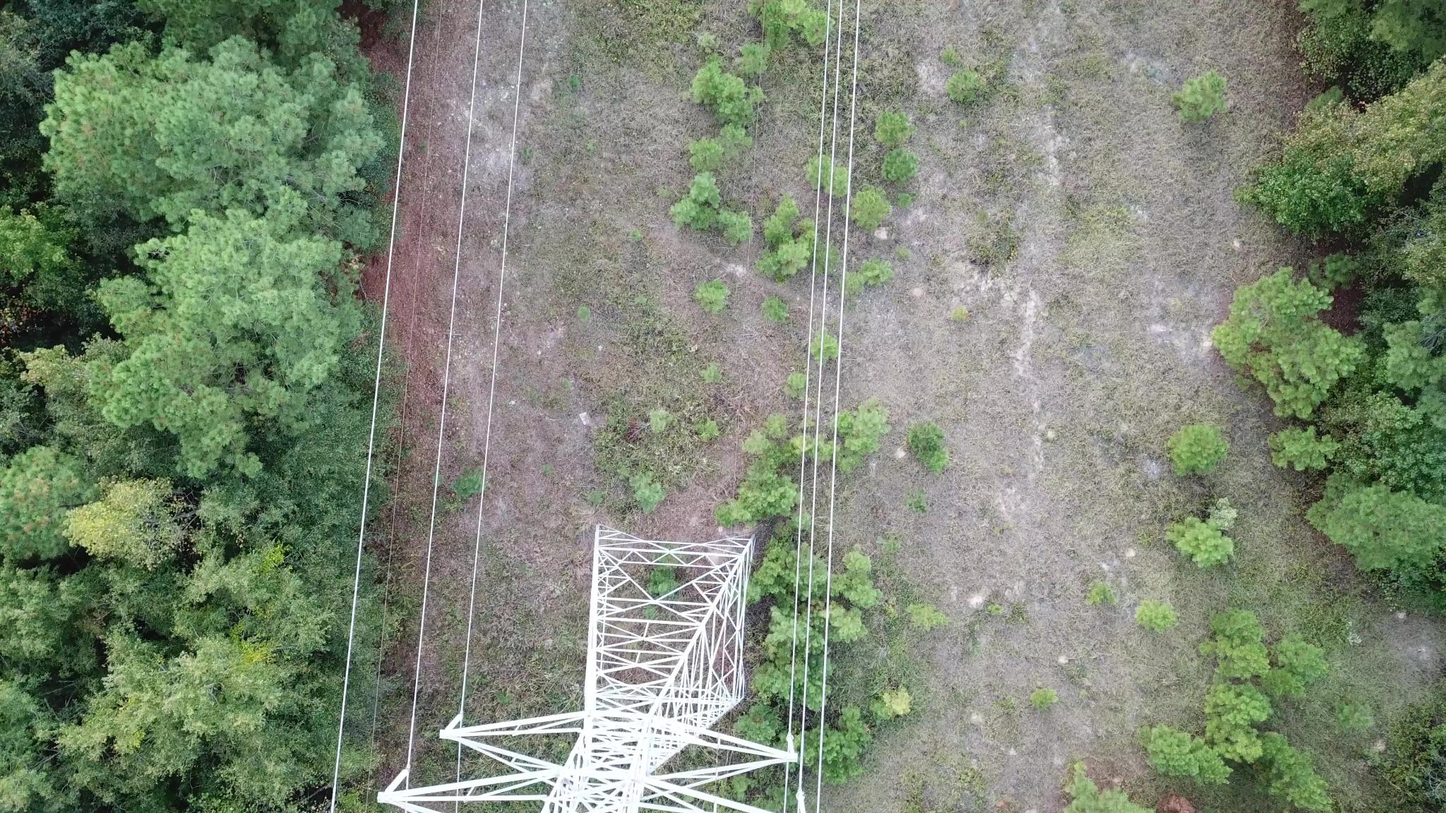tower: (374, 520, 811, 813)
